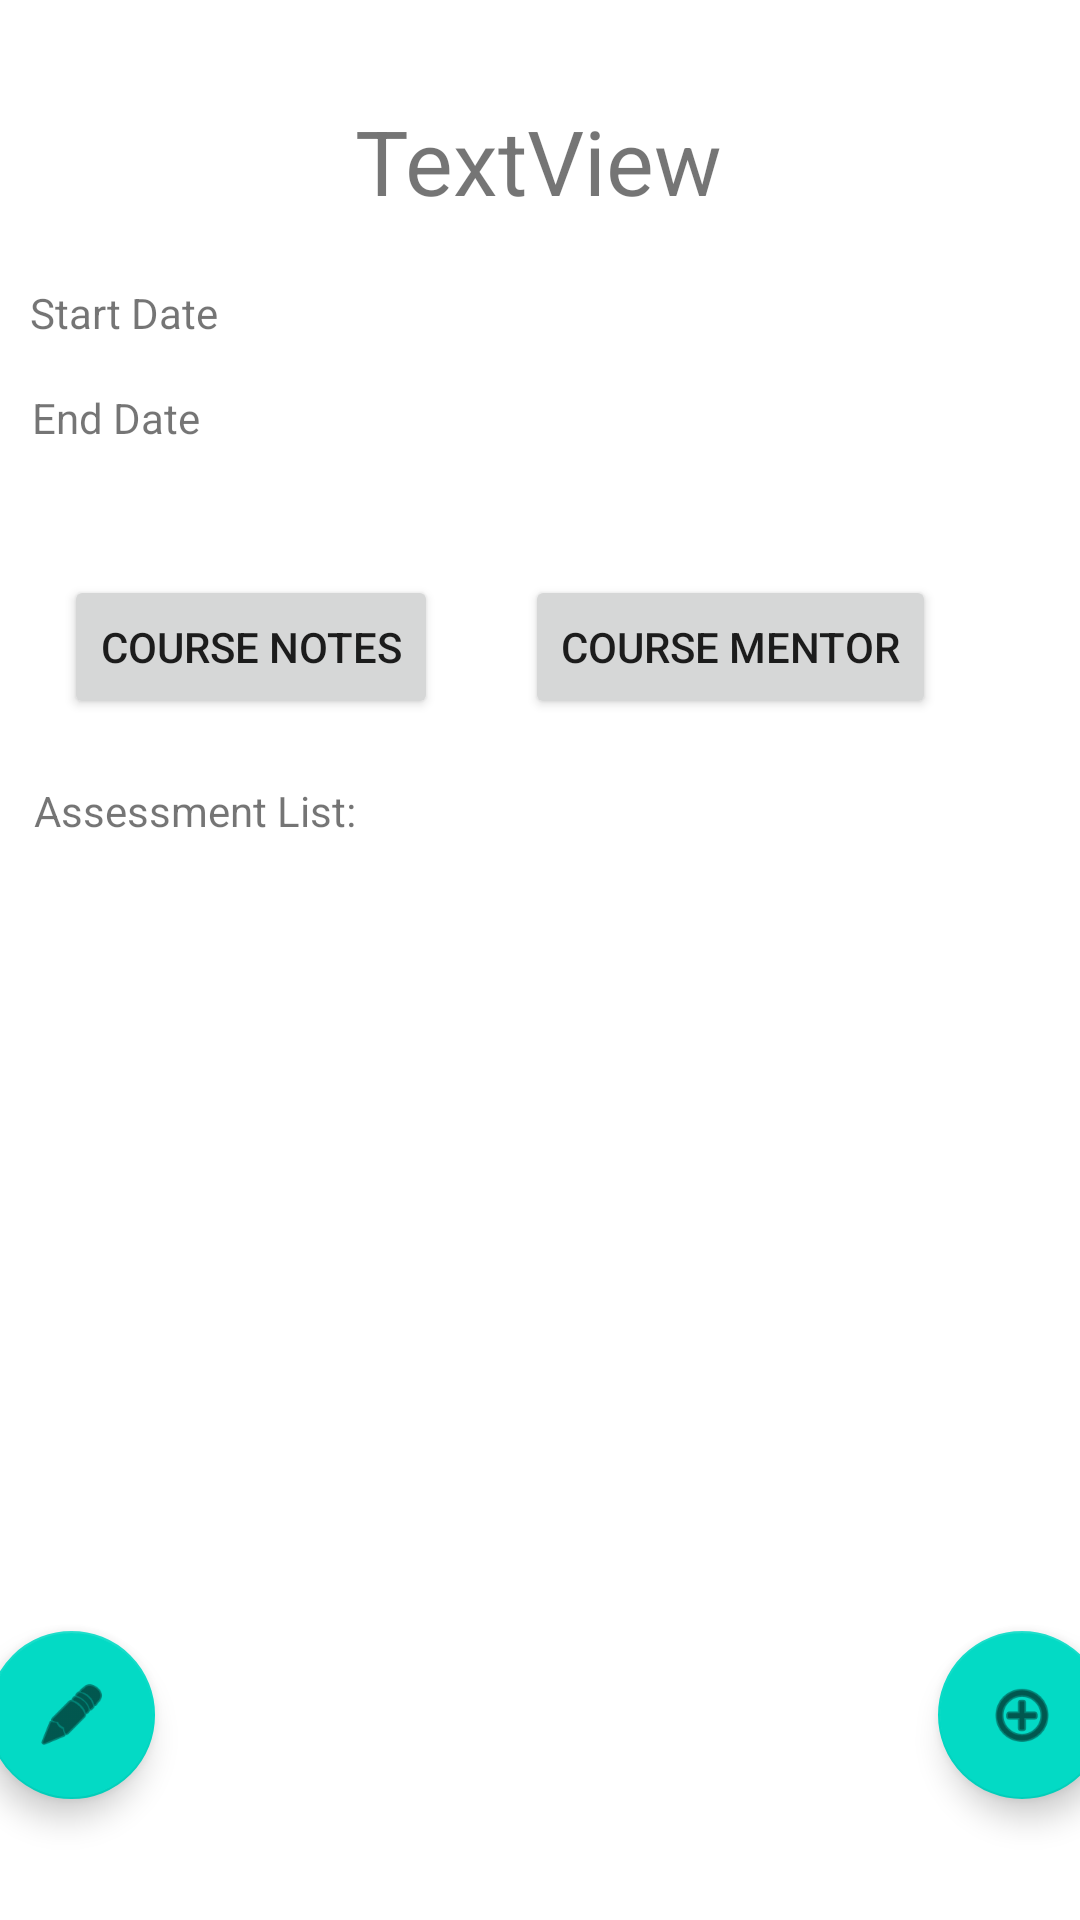

Where to tap for icons on this 1080x1920 app screen, as (x,y):
edit: (77,1715)
